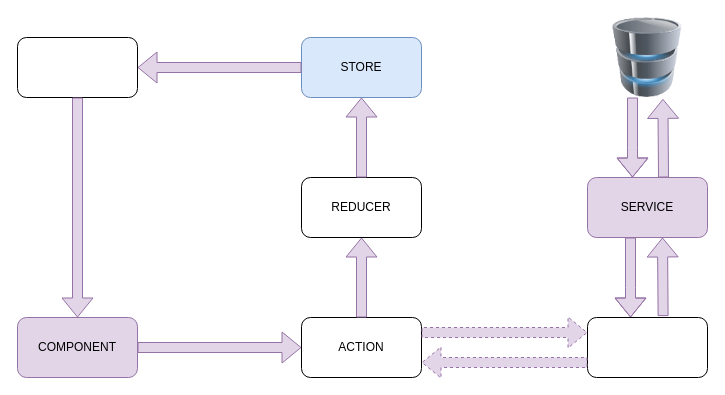
The diagram is 725 pixels wide and 395 high, and some of its shapes have lost their labels. Here are the shapes that lost their labels. From the top down, the box of each, then its label:
(16, 36, 138, 98): SELECTOR
(586, 316, 708, 378): EFFECTS
